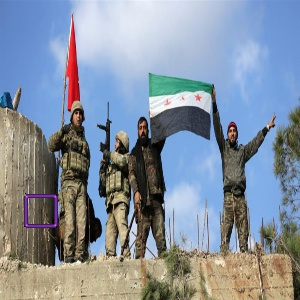square: (22, 192, 60, 231)
